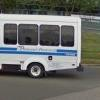Bus: (1, 8, 86, 82)
